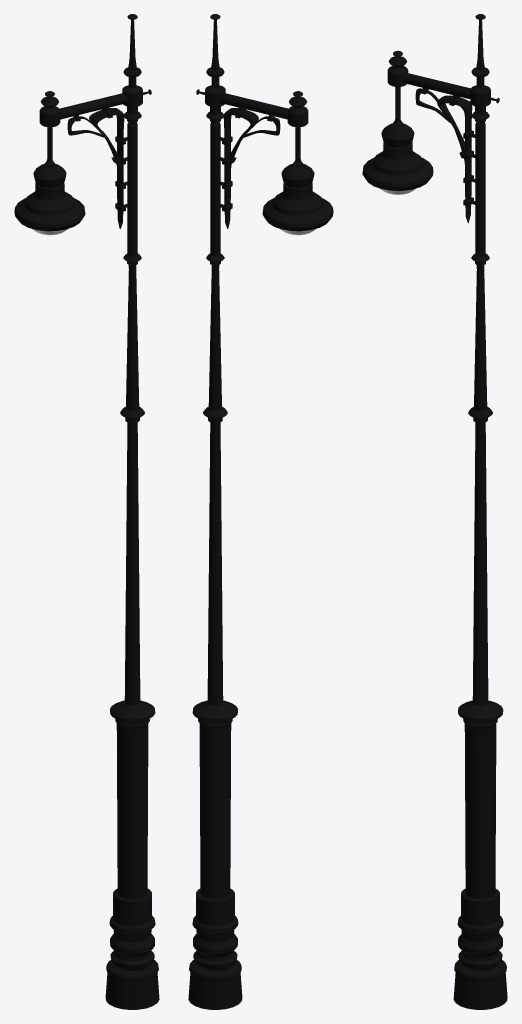
The model's file is Street_Lamp_1.1.fbx.
3 views of the same model, side by side, from view 1: azimuth 30°, elevation 25°; view 2: azimuth 150°, elevation 25°; view 3: azimuth 330°, elevation 25° (orthographic).
Parts seen in each view (by area): view 1: Street_Lamp; view 2: Street_Lamp; view 3: Street_Lamp.
Part boxes in pixels (x1,y1,x2,y2): Street_Lamp: (14,14,159,1009); Street_Lamp: (188,14,333,1009); Street_Lamp: (362,14,507,1009).
Bounding box in the file's own units: 71.12 × 488 × 32.11.
Materials: 1 (1 with a texture image).
